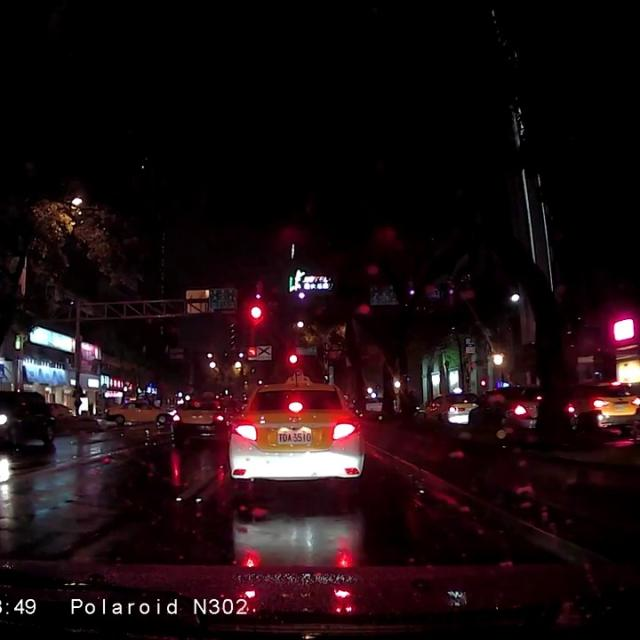Car: (225, 379, 362, 489), (0, 384, 64, 446), (473, 380, 550, 431), (568, 381, 638, 435), (169, 393, 223, 434), (422, 391, 476, 429), (105, 394, 171, 425), (45, 399, 71, 421)
